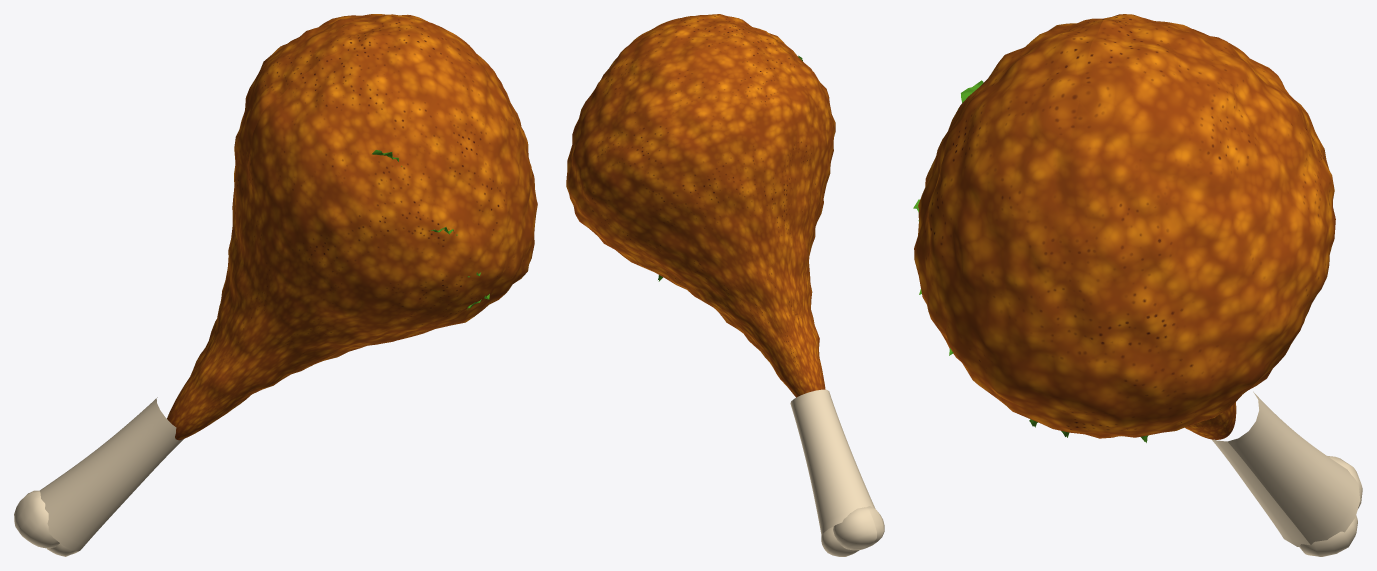
File: crispy-chicken-drumstick.glb
3 renders of one model, left to right at view 1: azimuth 30°, elevation 25°; view 2: azimuth 150°, elevation 25°; view 3: azimuth 270°, elevation 25°, orthographic. The views are drawn at different scales.
Parts seen in each view (by area): view 1: crispy-thigh-meat, bone-condyle; view 2: crispy-thigh-meat, bone-condyle; view 3: crispy-thigh-meat, bone-condyle.
Boxes of the visible parts, x1,y1,x2,y2 form: crispy-thigh-meat: (167, 14, 537, 440); bone-condyle: (14, 397, 183, 556); crispy-thigh-meat: (566, 14, 835, 397); bone-condyle: (790, 389, 884, 556); crispy-thigh-meat: (914, 14, 1335, 439); bone-condyle: (1211, 391, 1362, 556).
Size of the model in its own units: 0.1284 by 0.1505 by 0.0911.
3 materials, 1 textured.
